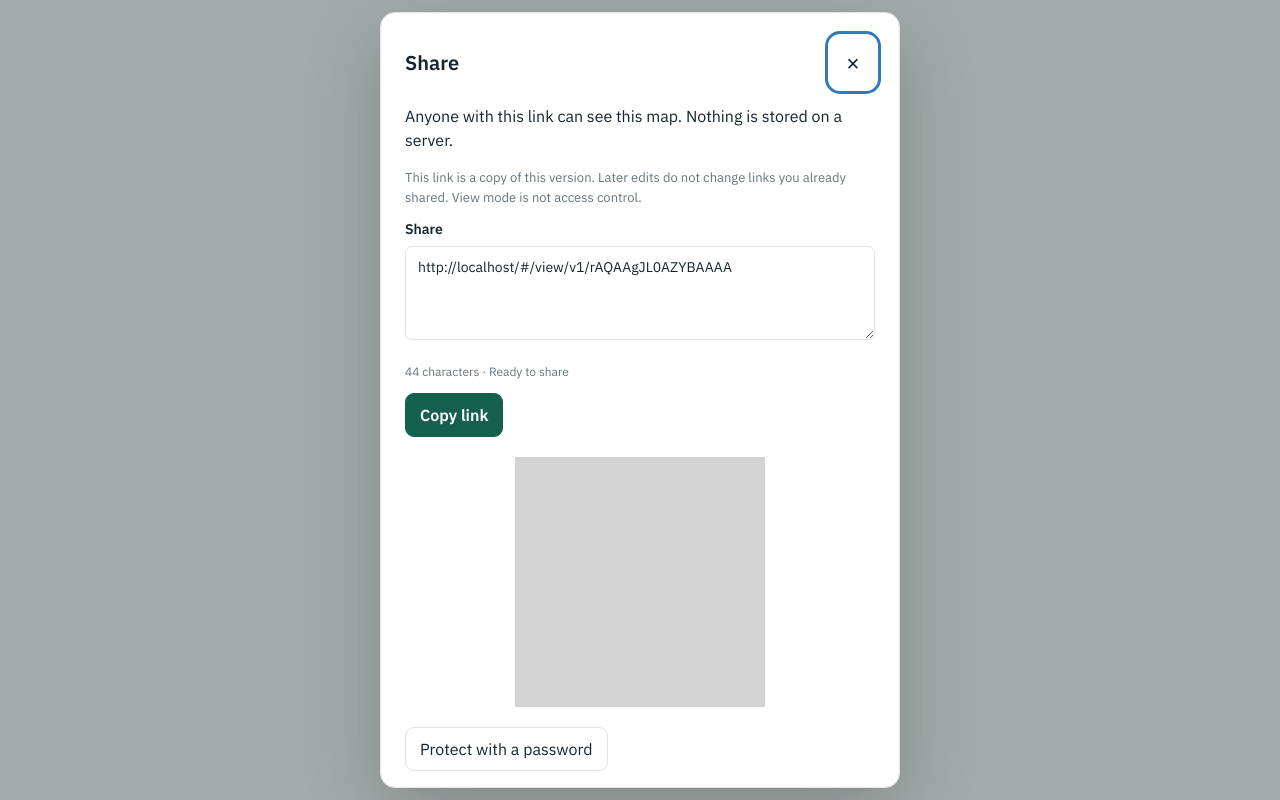
Test: selects the link as a manual fallback when Clipboard API is missing
Expected: the text box is not empty, [405,246,875,340]
Click the button "Copy link". click: (454, 415)
box: [405,393,503,437]
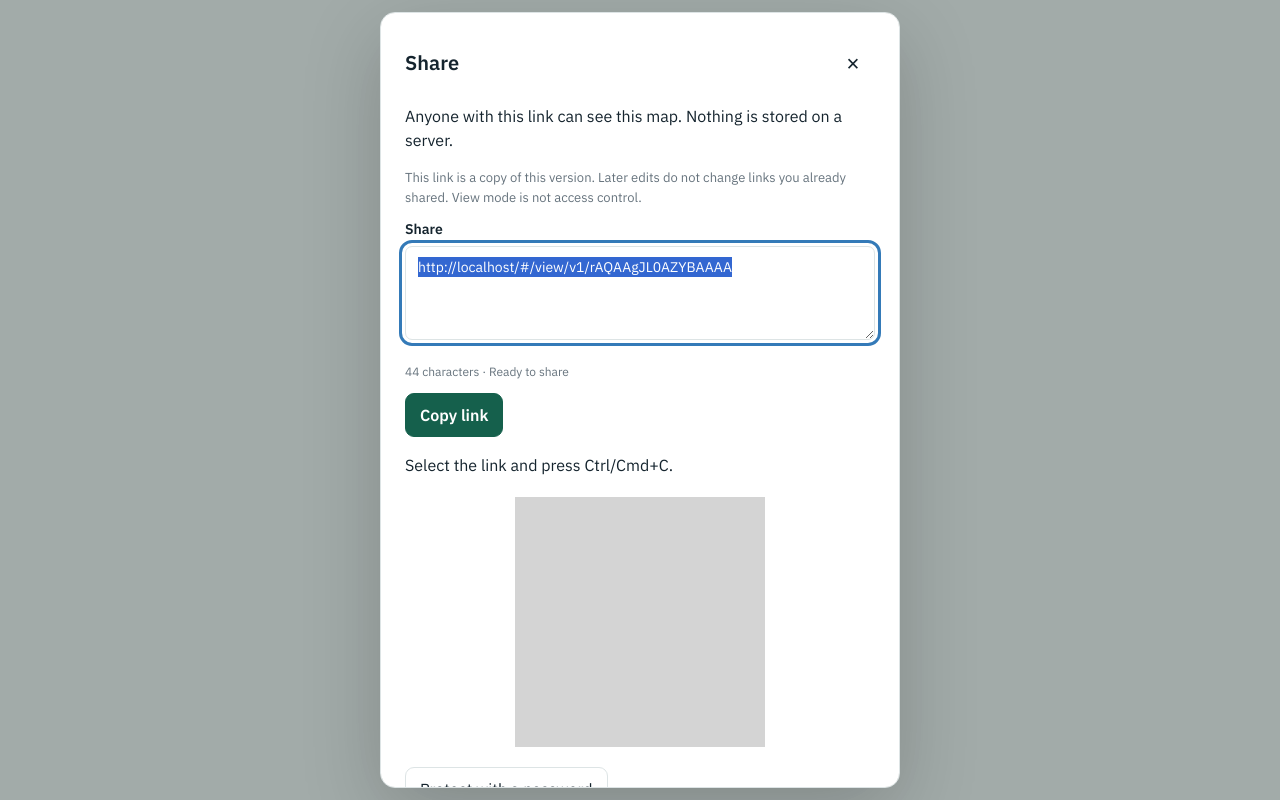
Expected: the text "Select the link and press Ctrl/Cmd+C." is shown, [405,455,673,475]
